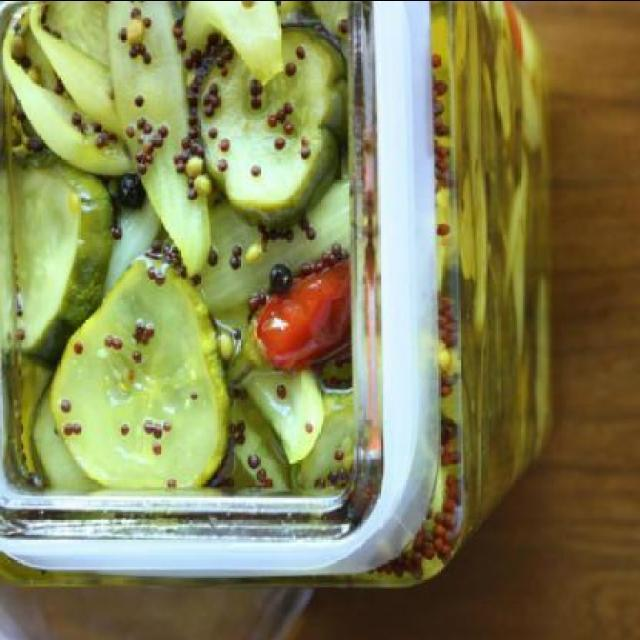Cucumber: (4, 1, 350, 488), (11, 140, 103, 344)
